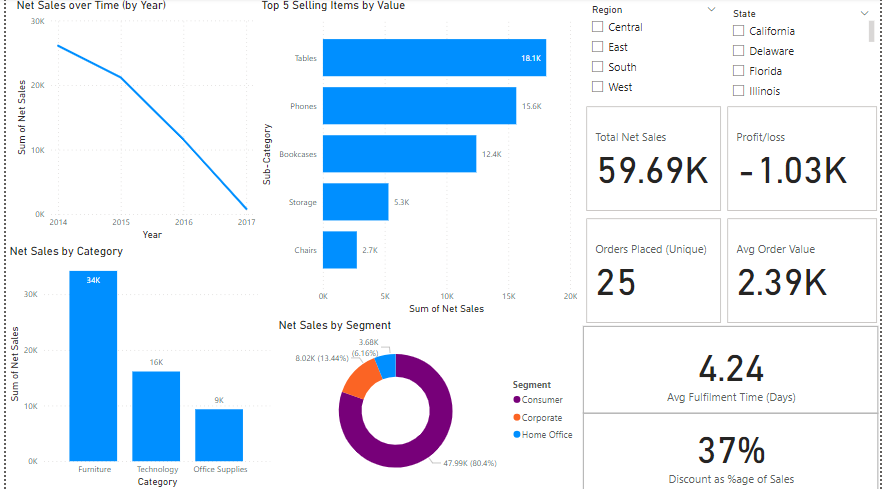

The page's visual inventory and layout, read from the dashboard file:
{"tool":"powerbi","page":{"name":"Page 1","canvas":[1280,720],"ordinal":0},"visuals":[{"type":"lineChart","title":"Net Sales over Time (by Year)","fields":{"Category":["Original.Order Date.Variation.Date Hierarchy.Year"],"Y":["Sum(Original.Net Sales)"]},"box":[9.6,0,359.5,359.5],"z":0},{"type":"columnChart","title":"Net Sales by Category","fields":{"Category":["Original.Category"],"Y":["Sum(Original.Net Sales)"]},"box":[0,359.5,392.5,360.9],"z":1000},{"type":"barChart","title":"Top 5 Selling Items by Value","fields":{"Y":["Sum(Original.Net Sales)"],"Category":["Original.Sub-Category"]},"box":[369.1,0,472,467.9],"z":2000},{"type":"donutChart","title":"Net Sales by Segment","fields":{"Category":["Original.Segment"],"Y":["Sum(Original.Net Sales)"]},"box":[393.8,467.9,450.1,252.5],"z":3000},{"type":"slicer","fields":{"Values":["Original.State"]},"box":[1051.3,9.8,224.9,144.2],"z":4000},{"type":"cardVisual","fields":{"Data":["Original.Unique Orders"]},"box":[843.9,317,207.2,163.3],"z":5000},{"type":"cardVisual","fields":{"Data":["Original.AOV"]},"box":[1051.1,317,229.2,163.3],"z":6000},{"type":"cardVisual","fields":{"Data":["Sum(Original.Net Sales)"]},"box":[843.9,153.7,207.2,163.3],"z":7000},{"type":"cardVisual","fields":{"Data":["Sum(Original.Profit/loss)"]},"box":[1051.1,153.7,229.2,163.3],"z":8000},{"type":"card","title":"ghj","fields":{"Values":["Original.Avg Fulfilment Time (Days)"]},"box":[843.9,480.3,432.2,127.6],"z":9000},{"type":"slicer","fields":{"Values":["Original.Region"]},"box":[843.9,4.1,207.2,149.6],"z":10000},{"type":"card","fields":{"Values":["Original.Discountaspercofsales"]},"box":[843.9,607.9,432.2,112.5],"z":11000}]}

Visuals, with their boxes in screenshot pixels (x1, y1, x2, y2), scaled from the page's 1280x720 canvas onto the 882x489 screenshot:
"Net Sales over Time (by Year)" lineChart: [7,0,254,244]
"Net Sales by Category" columnChart: [0,244,270,488]
"Top 5 Selling Items by Value" barChart: [254,0,580,318]
"Net Sales by Segment" donutChart: [271,318,581,488]
slicer - Original.State: [724,7,879,105]
cardVisual - Original.Unique Orders: [581,215,724,326]
cardVisual - Original.AOV: [724,215,881,326]
cardVisual - Sum(Original.Net Sales): [581,104,724,215]
cardVisual - Sum(Original.Profit/loss): [724,104,881,215]
"ghj" card: [581,326,879,413]
slicer - Original.Region: [581,3,724,104]
card - Original.Discountaspercofsales: [581,413,879,488]
